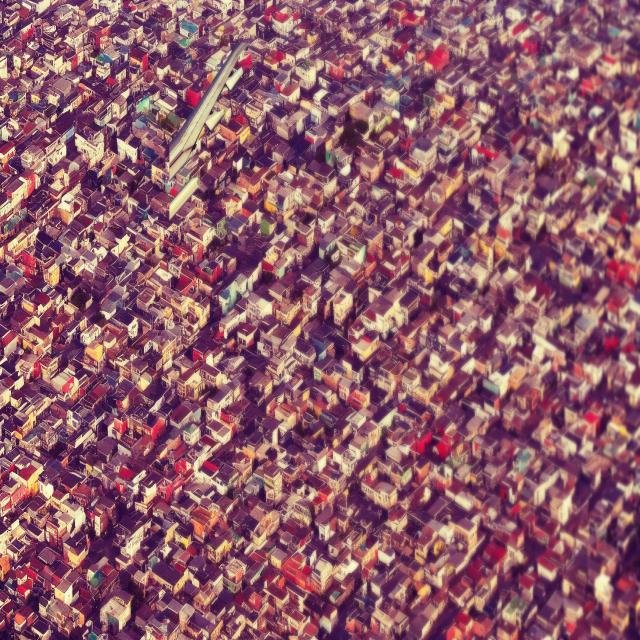airplane: (169, 44, 252, 191)
